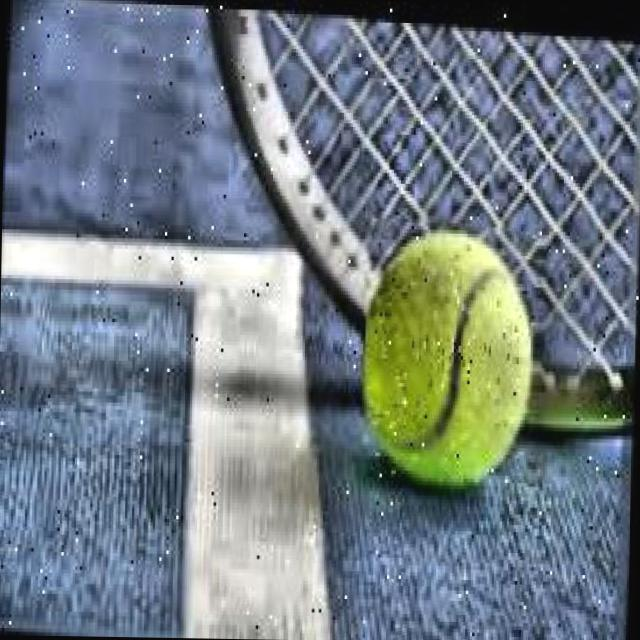Tennis Ball: (360, 211, 546, 498)
